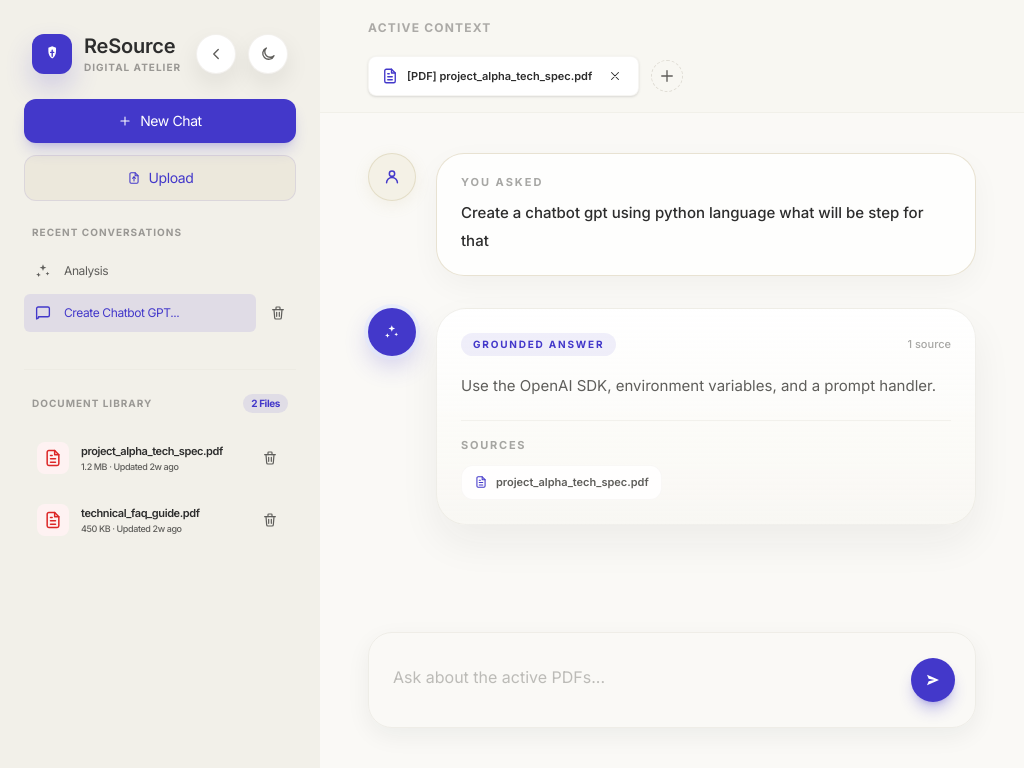
it: ResourceWorkspace › adds an inactive PDF into active context from the plus picker
Expected: the text "Use the OpenAI SDK, environment variables, and a prompt handler." is shown, [461, 376, 936, 394]
Click the button named "+".
click(667, 76)  # box [651, 60, 683, 92]
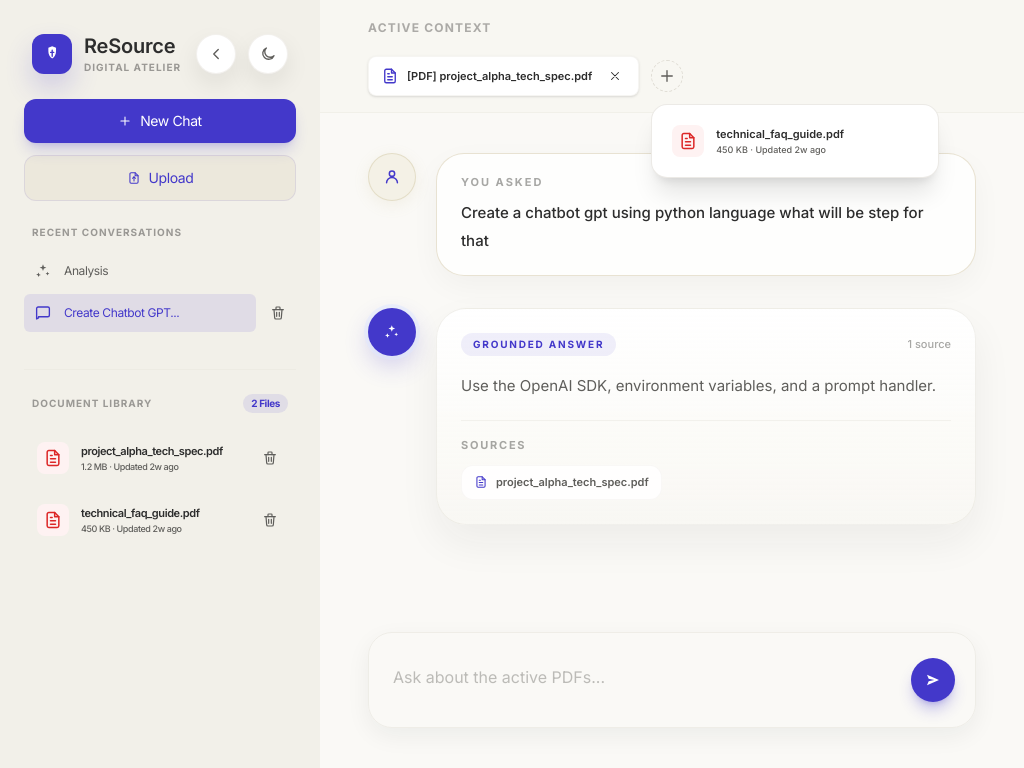
Click the button "technical_faq_guide.pdf" below "[PDF]".
click(795, 141)  # box [660, 113, 930, 169]
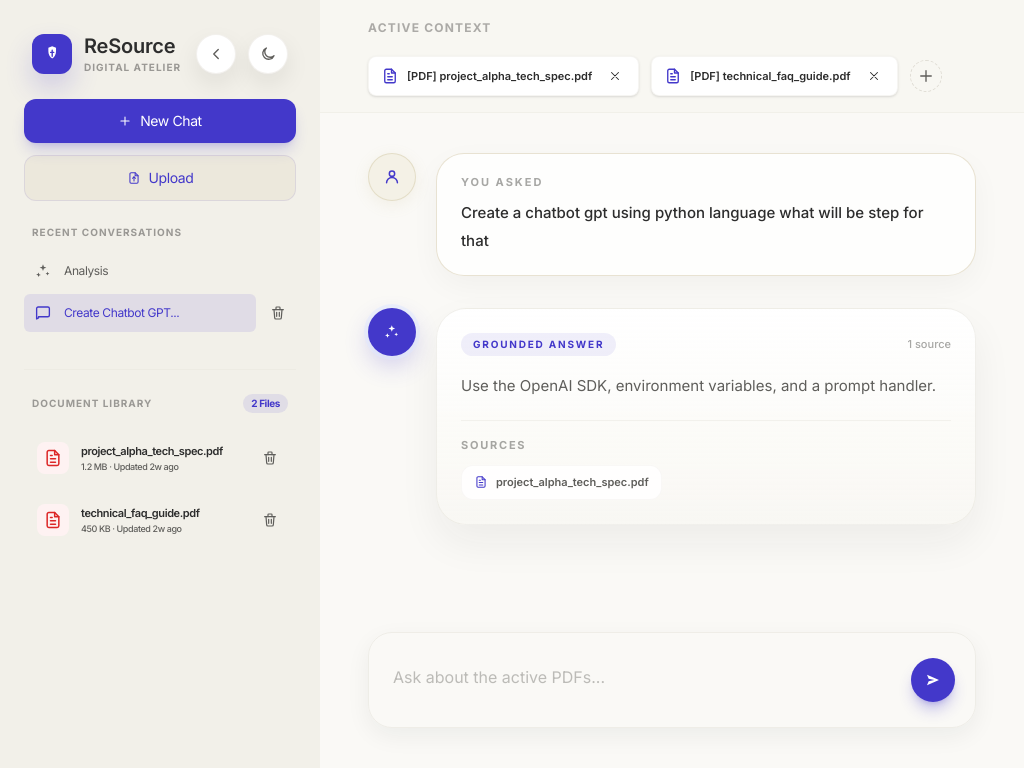
Expected: the text "[PDF] technical_faq_guide.pdf" is shown, [690, 68, 850, 84]
